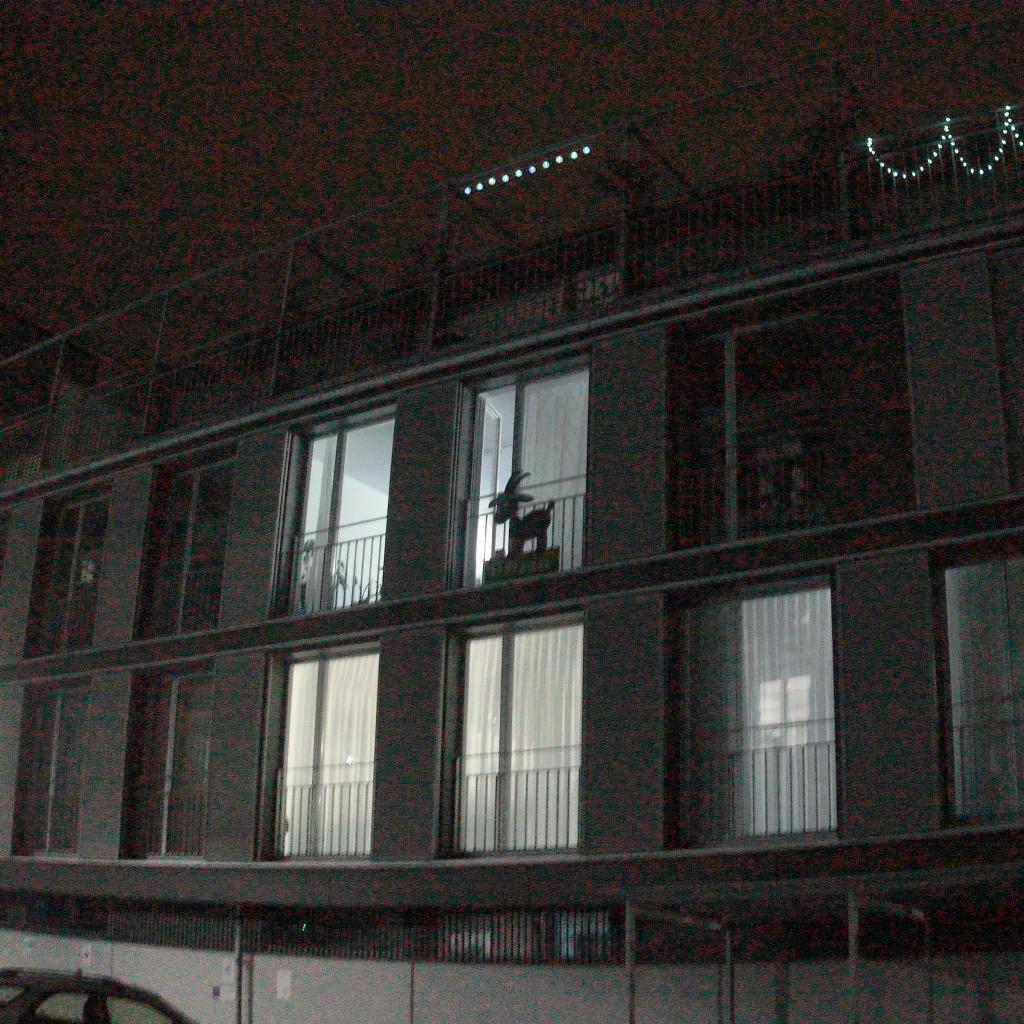balcony-fence: (0, 0, 1024, 490), (673, 720, 839, 841), (679, 428, 835, 545), (450, 745, 581, 853), (457, 476, 585, 585), (280, 517, 388, 617), (945, 691, 1024, 821), (272, 762, 375, 860), (135, 552, 226, 639), (119, 774, 209, 859), (23, 576, 101, 656), (9, 778, 85, 857)
car: (0, 965, 202, 1024)
facade: (0, 224, 1024, 902)
fence: (0, 882, 1024, 1024)
non-building-infrastructure: (627, 880, 1024, 1024)
window: (671, 572, 842, 844), (675, 298, 837, 547), (897, 237, 1024, 506), (446, 610, 583, 855), (456, 356, 588, 586), (935, 542, 1024, 826), (281, 403, 395, 618), (271, 638, 380, 860), (119, 659, 215, 860), (137, 450, 237, 639), (23, 479, 114, 658), (8, 671, 95, 858)
